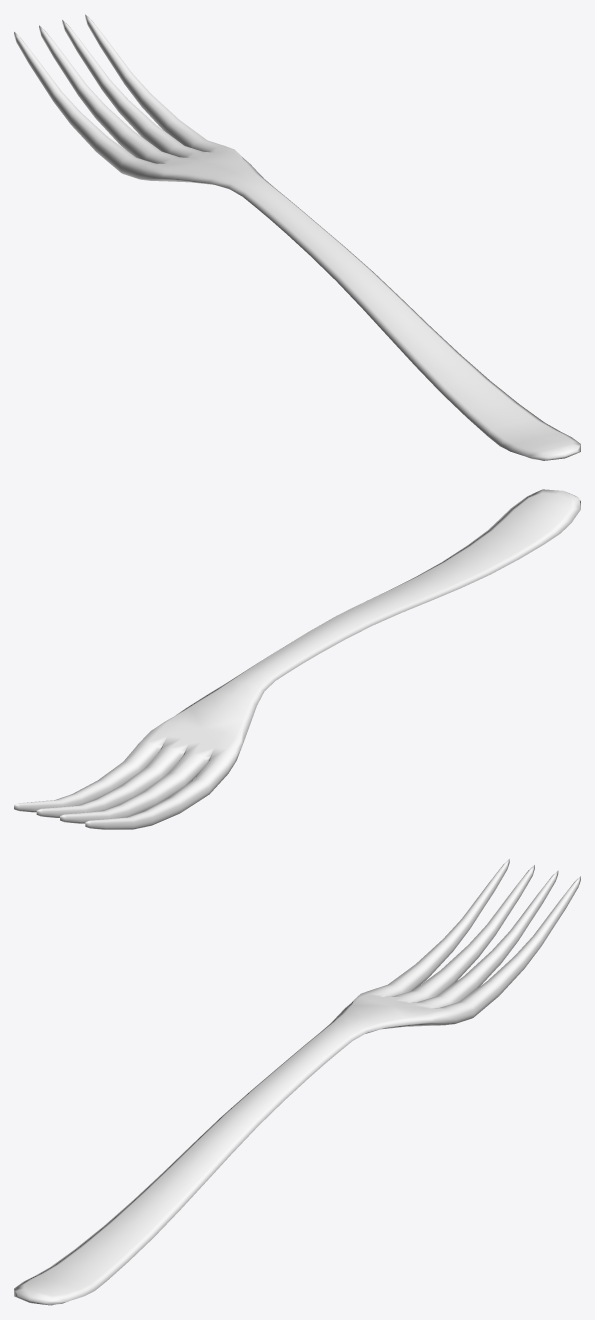
Rendered from fork.glb.
3 views of the same model, one above another, from view 1: azimuth 30°, elevation 25°; view 2: azimuth 150°, elevation 25°; view 3: azimuth 330°, elevation 25° (orthographic).
Parts seen in each view (by area): view 1: Fork; view 2: Fork; view 3: Fork.
Boxes of the visible parts, x1=… form: Fork: x1=14, y1=14, x2=580, y2=460; Fork: x1=14, y1=489, x2=580, y2=829; Fork: x1=14, y1=859, x2=580, y2=1305.
Bounding box in the file's own units: 11.13 × 8.09 × 110.
1 material, 1 textured.
